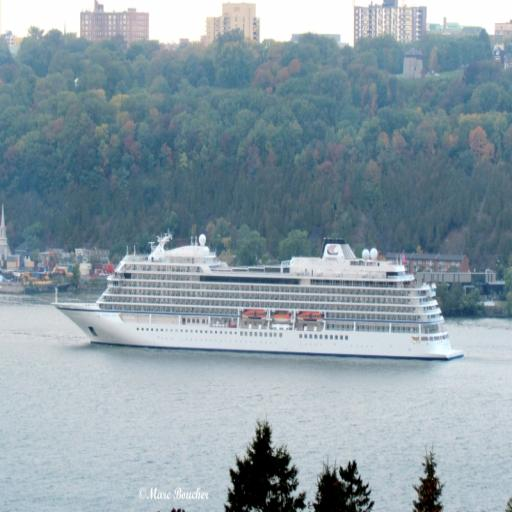cruises: (48, 228, 467, 372)
